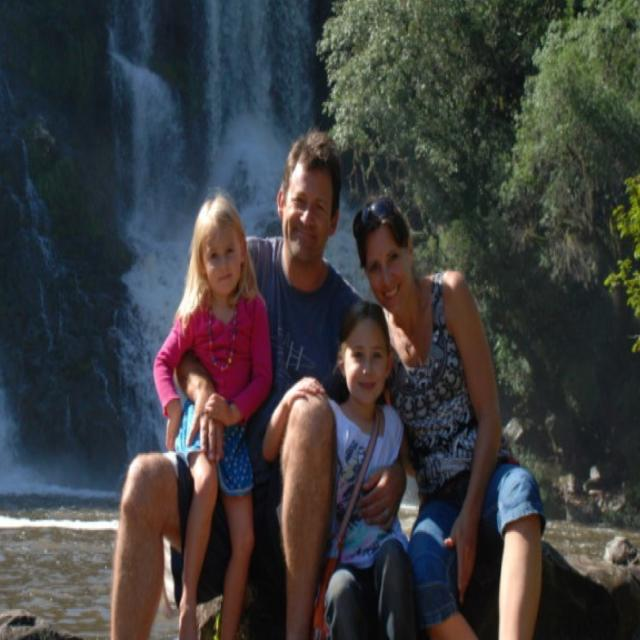body: (108, 127, 370, 640), (346, 192, 548, 639), (260, 296, 420, 640), (152, 192, 272, 639)
